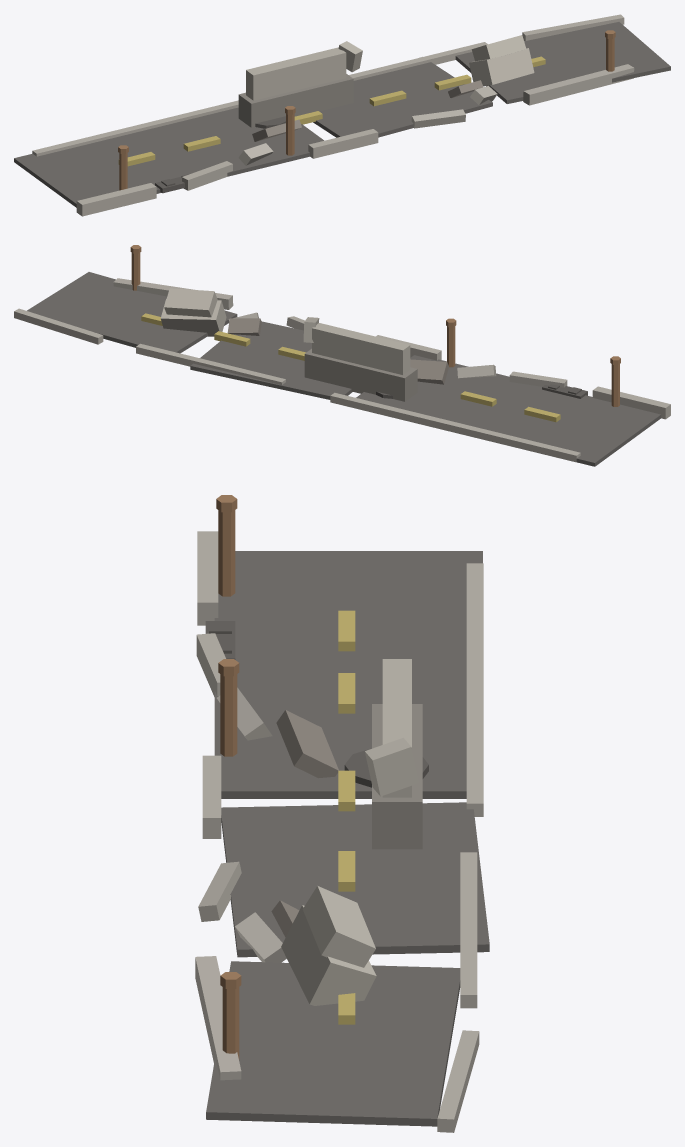
Rendered from prop_city_road.glb.
The picture shows the model from 3 angles, top to bottom: view 1: azimuth 30°, elevation 25°; view 2: azimuth 150°, elevation 25°; view 3: azimuth 270°, elevation 25°; orthographic projection. The views are drawn at different scales.
Parts seen in each view (by area): view 1: body_asphalt, accent_kerb, body_jersey, trim_farkerb, accent_jersey_base, trim_jersey_down, trim_dashes, accent_bollard, trim_slabs, accent_drain; view 2: body_asphalt, trim_farkerb, accent_kerb, body_jersey, accent_jersey_base, trim_jersey_down, trim_dashes, accent_bollard, trim_slabs, accent_drain; view 3: body_asphalt, accent_kerb, trim_farkerb, trim_jersey_down, accent_bollard, body_jersey, accent_jersey_base, trim_dashes, trim_slabs.
Boxes of the visible parts, x1,y1,x2,y2 form: body_asphalt: (14, 22, 670, 207); accent_kerb: (76, 64, 634, 216); body_jersey: (246, 41, 362, 100); trim_farkerb: (32, 14, 624, 156); accent_jersey_base: (238, 74, 353, 127); trim_jersey_down: (469, 35, 534, 86); trim_dashes: (118, 56, 545, 166); accent_bollard: (118, 30, 615, 190); trim_slabs: (252, 80, 483, 141); accent_drain: (155, 174, 189, 193); body_asphalt: (27, 272, 661, 466); trim_farkerb: (14, 308, 580, 462); accent_kerb: (113, 278, 670, 419); body_jersey: (303, 317, 410, 374); accent_jersey_base: (304, 348, 417, 401); trim_jersey_down: (160, 288, 226, 336); trim_dashes: (141, 313, 560, 422); accent_bollard: (130, 245, 620, 406); trim_slabs: (227, 318, 448, 384); accent_drain: (542, 384, 587, 398); body_asphalt: (206, 551, 489, 1126); accent_kerb: (195, 531, 286, 1080); trim_farkerb: (437, 563, 483, 1132); trim_jersey_down: (281, 886, 376, 1005); accent_bollard: (216, 495, 241, 1059); body_jersey: (365, 659, 419, 797); accent_jersey_base: (372, 704, 422, 849); trim_dashes: (338, 610, 355, 1024); trim_slabs: (271, 710, 338, 937).
Size of the model in its own units: 13 by 1.28 by 2.8.
